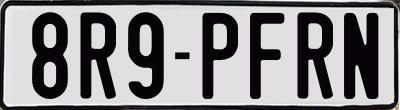8: (32, 12, 71, 99)
9: (128, 10, 168, 99)
F: (248, 13, 282, 99)
N: (341, 12, 381, 100)
P: (200, 11, 242, 101)
R: (297, 11, 335, 101), (77, 10, 116, 97)
